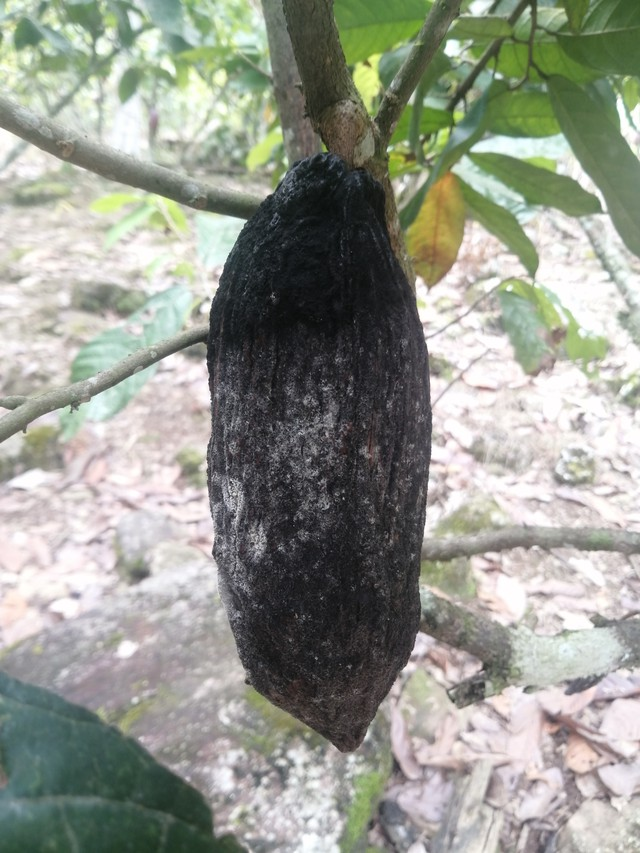moniliophthora roreri: (177, 145, 448, 765)
